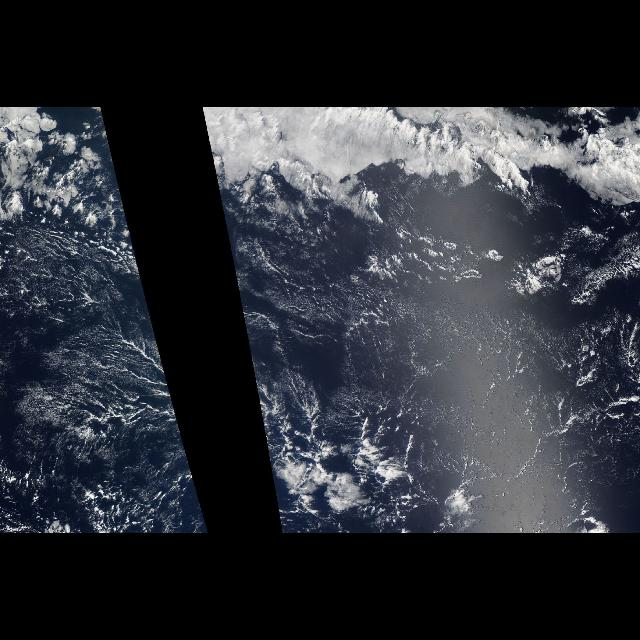Gravel: (280, 294, 626, 431)
Sugar: (368, 290, 580, 428)
